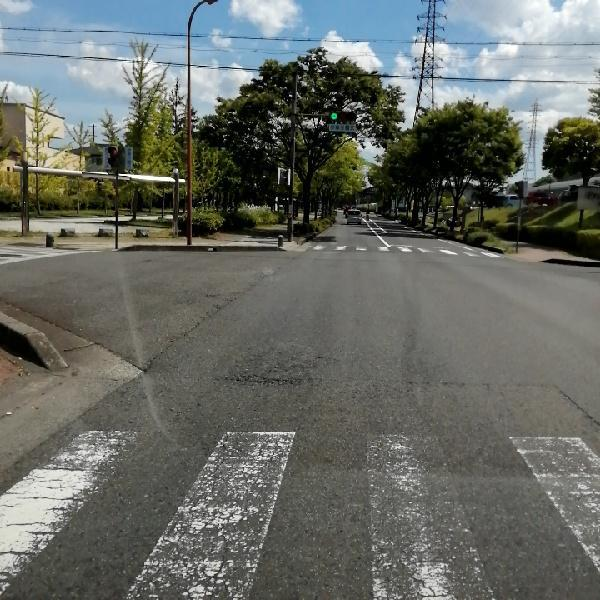D00: (550, 382, 599, 442)
D10: (346, 369, 543, 399), (209, 354, 320, 391)
D43: (14, 425, 563, 597)
